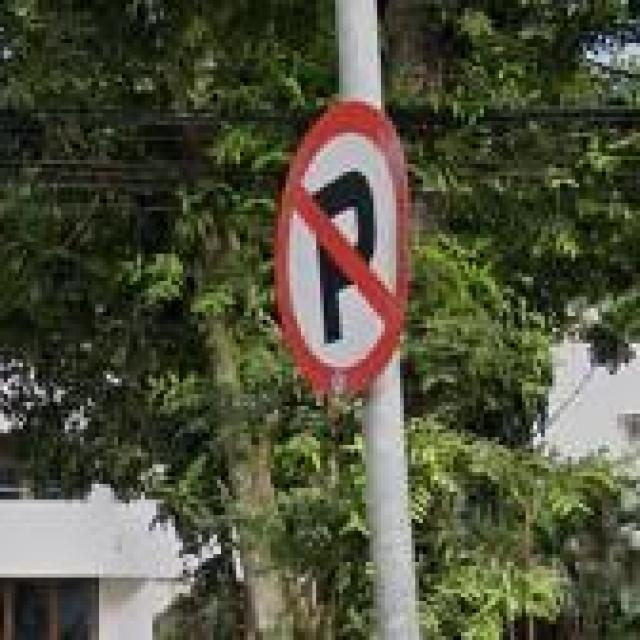traffic sign: (278, 102, 408, 398)
